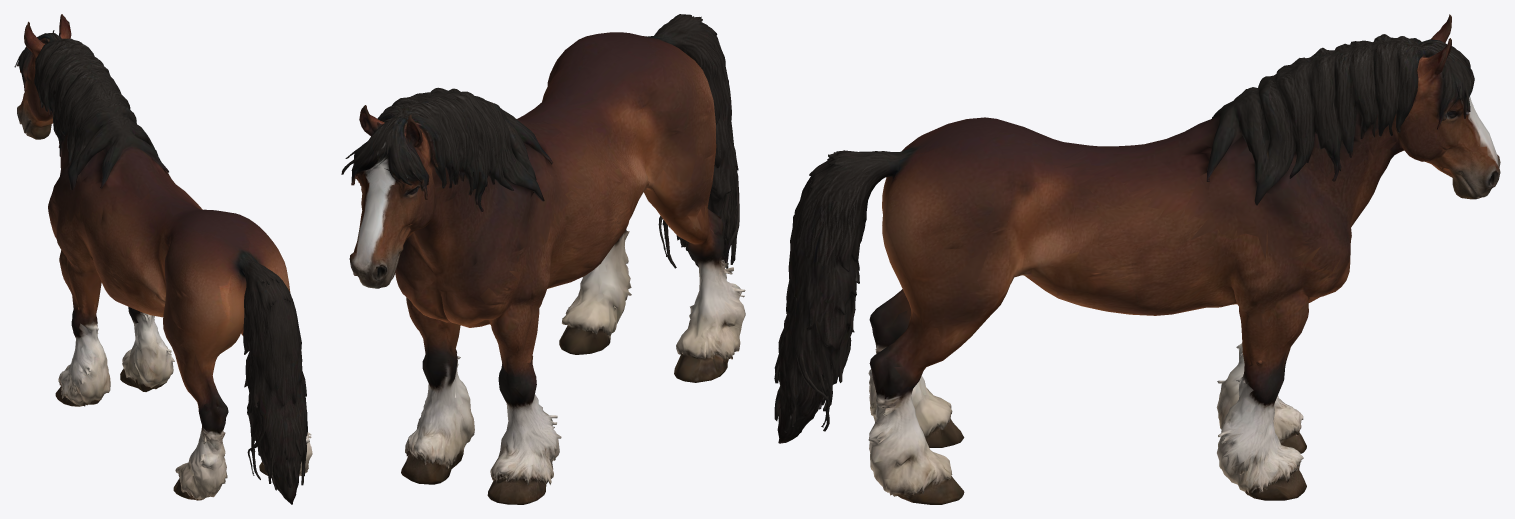
The model's file is cavallo_da_tiro.gltf.
The picture shows the model from 3 angles, left to right: view 1: azimuth 30°, elevation 25°; view 2: azimuth 150°, elevation 25°; view 3: azimuth 270°, elevation 25°; orthographic projection. The views are drawn at different scales.
Parts seen in each view (by area): view 1: animal; view 2: animal; view 3: animal.
Part boxes in pixels (x1,y1,x2,y2): animal: (14,14,312,504); animal: (341,14,745,504); animal: (774,14,1500,504).
Size of the model in its own units: 0.6674 by 1.72 by 2.54.
1 material, 1 textured.
